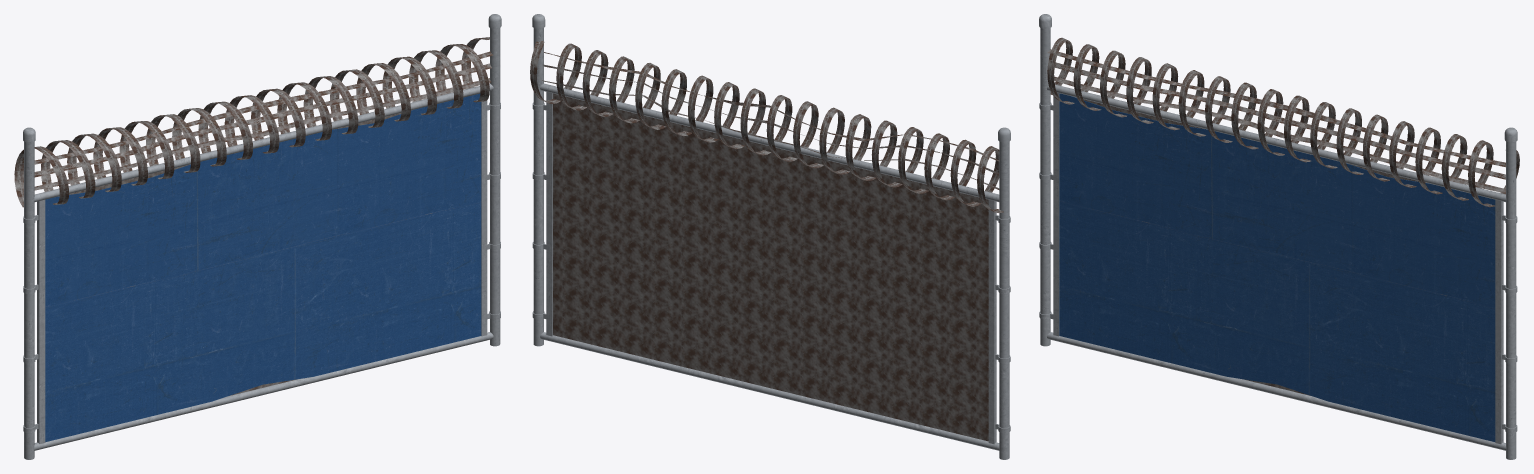
Rendered from Kit_WireBarrier.fbx.
3 views of the same model, side by side, from view 1: azimuth 30°, elevation 25°; view 2: azimuth 150°, elevation 25°; view 3: azimuth 330°, elevation 25° (orthographic).
Visible parts, largest first — view 1: PlasticTarp, BarbedWire, Iron, WireNetting; view 2: WireNetting, Iron, BarbedWire; view 3: PlasticTarp, BarbedWire, Iron, WireNetting.
Part boxes in pixels (left/top/right/bottom): PlasticTarp: left=45, top=93, right=481, bottom=442; BarbedWire: left=14, top=37, right=492, bottom=207; Iron: left=23, top=14, right=501, bottom=459; WireNetting: left=58, top=110, right=411, bottom=395; WireNetting: left=553, top=93, right=988, bottom=441; Iron: left=532, top=14, right=1010, bottom=459; BarbedWire: left=530, top=41, right=1003, bottom=213; PlasticTarp: left=1059, top=93, right=1495, bottom=441; BarbedWire: left=1047, top=37, right=1519, bottom=207; Iron: left=1039, top=14, right=1517, bottom=459; WireNetting: left=1074, top=97, right=1425, bottom=395.
Size of the model in its own units: 252 by 166 by 29.88.
